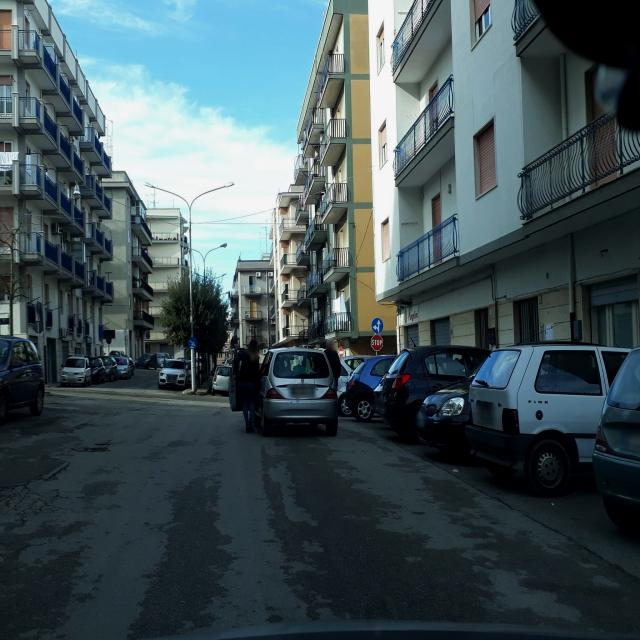car: (464, 341, 636, 497), (376, 344, 492, 442), (592, 335, 640, 566), (252, 344, 338, 436), (417, 371, 489, 460), (0, 333, 46, 429), (340, 354, 398, 422), (59, 354, 92, 388), (158, 358, 189, 390), (210, 364, 232, 395), (89, 356, 108, 383), (100, 356, 119, 382), (114, 356, 132, 379), (136, 354, 156, 369), (156, 352, 168, 368)
